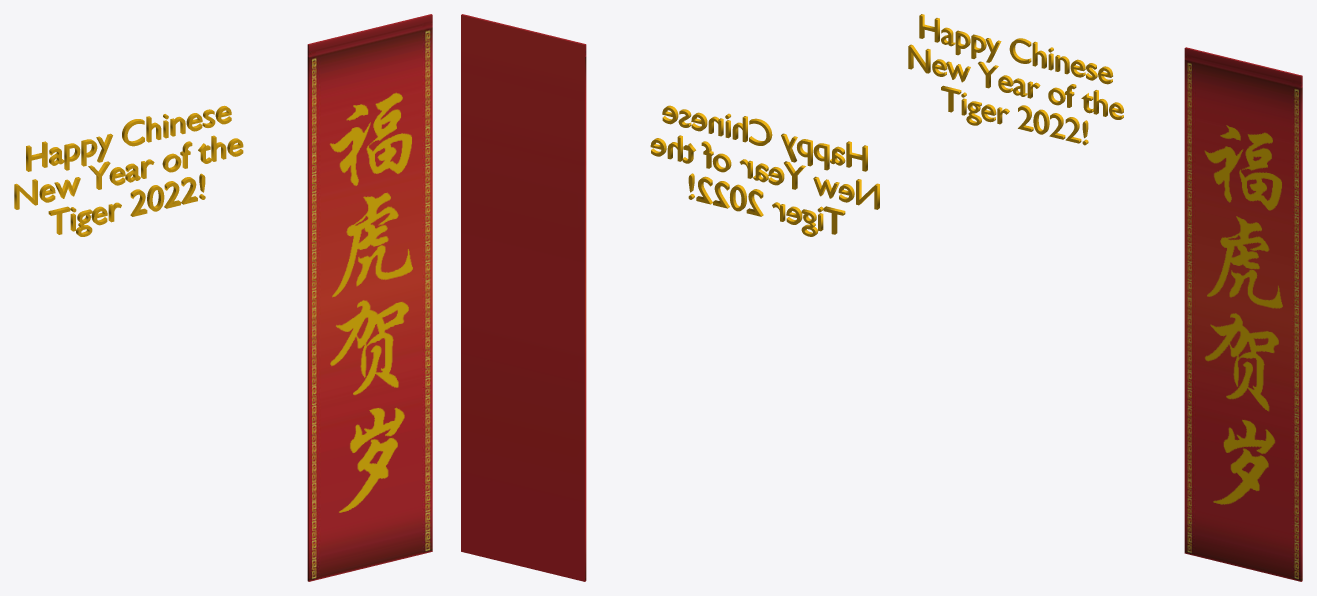
The model's file is scroll0.gltf.
3 renders of one model, left to right at view 1: azimuth 30°, elevation 25°; view 2: azimuth 150°, elevation 25°; view 3: azimuth 330°, elevation 25°, orthographic. The views are drawn at different scales.
Visible parts, largest first — view 1: ChineseScroll, Text; view 2: ChineseScroll, Text; view 3: ChineseScroll, Text.
Boxes of the visible parts, left/top/right/bottom form: ChineseScroll: left=307, top=14, right=432, bottom=581; Text: left=14, top=105, right=243, bottom=236; ChineseScroll: left=461, top=14, right=586, bottom=581; Text: left=650, top=105, right=879, bottom=236; ChineseScroll: left=1184, top=47, right=1302, bottom=581; Text: left=908, top=14, right=1123, bottom=145.
Size of the model in its own units: 6.07 by 7.47 by 0.06.
Materials: 2 (1 with a texture image).
